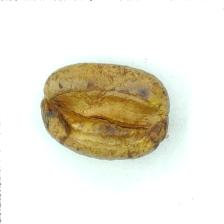NG: (53, 76, 157, 148)
